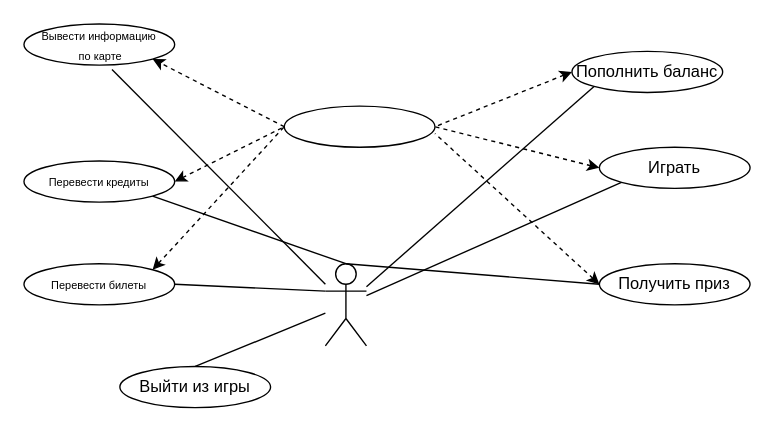
Image size: 774x432. Some labels were removed from this diagram. The shapes that lost their labels are listed below. From the top down, each one's centre as x and y in pixels, then its label:
[359,126]: выбрать карту
[345,304]: Actor
